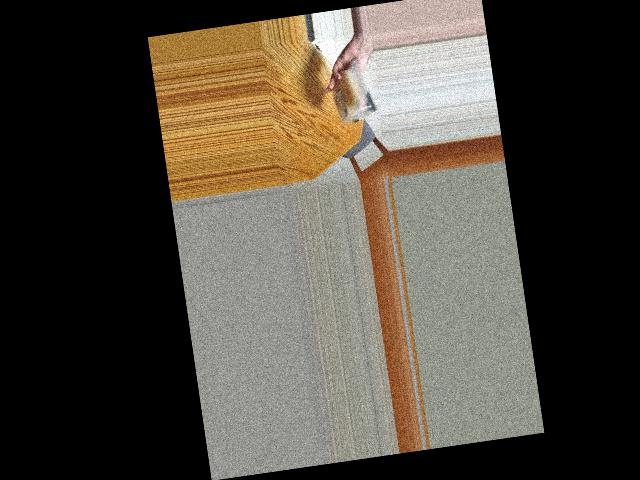cheese: (326, 64, 377, 127)
